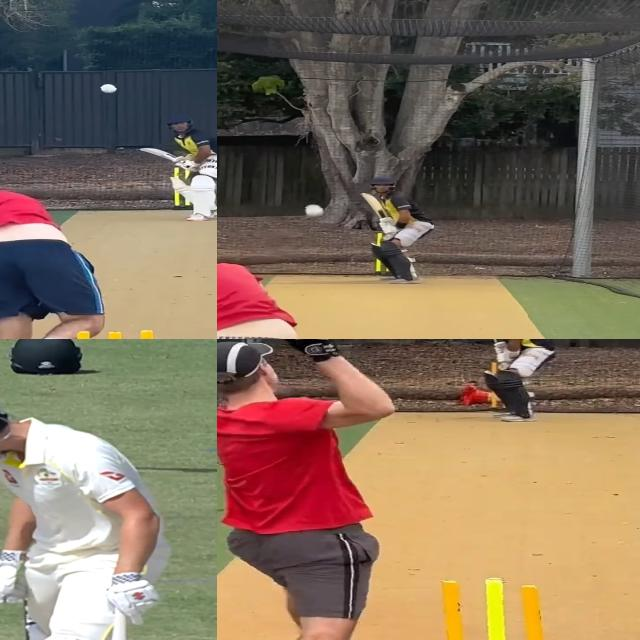Cricket ball: (302, 202, 325, 220), (97, 82, 120, 95)
Stumps: (421, 577, 556, 640)
